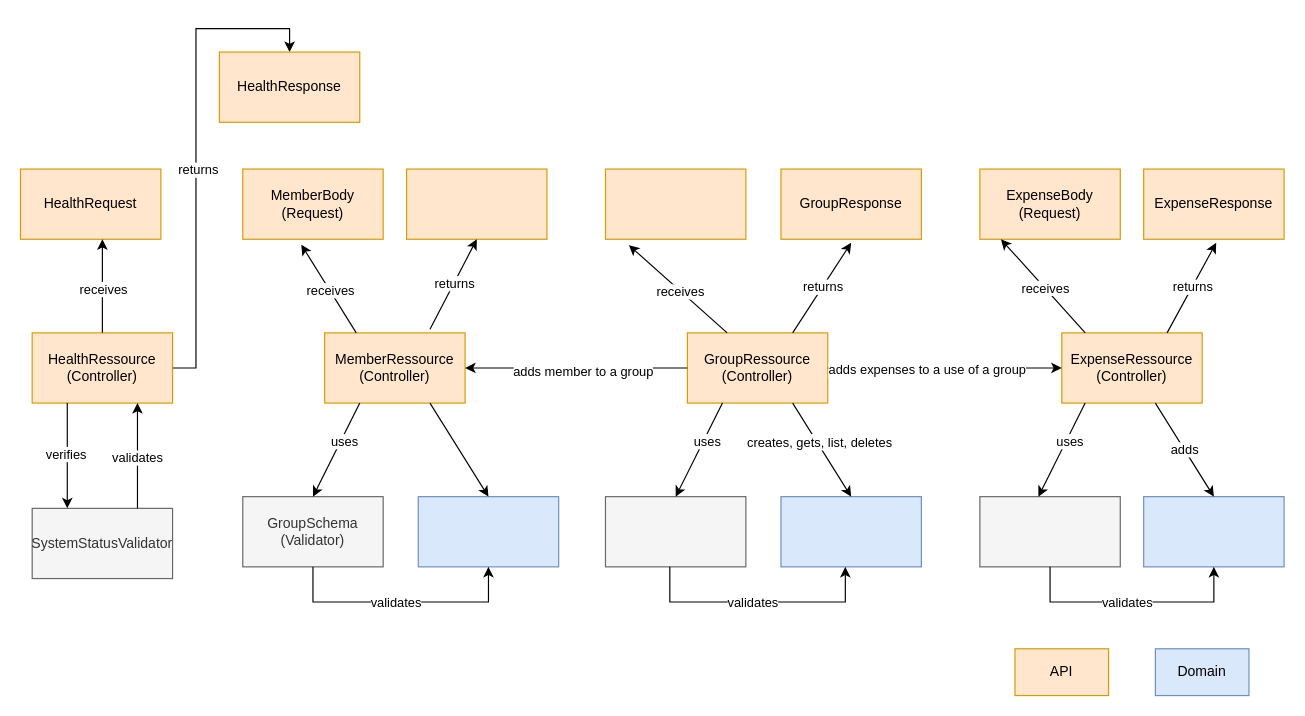
Some shapes in this 1305 by 716 pixel diagram are drawn without their labels. Each missing label, with the centre of its shape:
"Expense" goes at point (1213, 531).
"ExpenseSchema (Validator)" goes at point (1049, 531).
"GroupBody (Request)" goes at point (675, 203).
"Member" goes at point (850, 531).
"MemberResponse" goes at point (476, 203).
"MemberSchema (Validator)" goes at point (675, 531).
"Membre" goes at point (488, 531).
